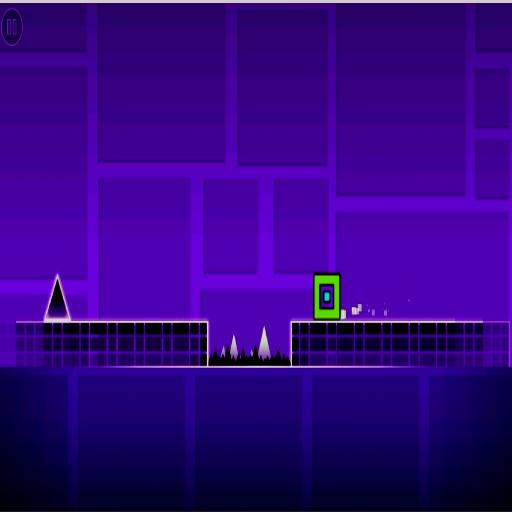block: (289, 320, 512, 366), (14, 318, 210, 367)
player: (314, 274, 340, 319)
spike: (45, 276, 70, 319), (258, 326, 271, 360), (258, 325, 271, 359), (231, 333, 239, 358), (221, 346, 225, 356)
